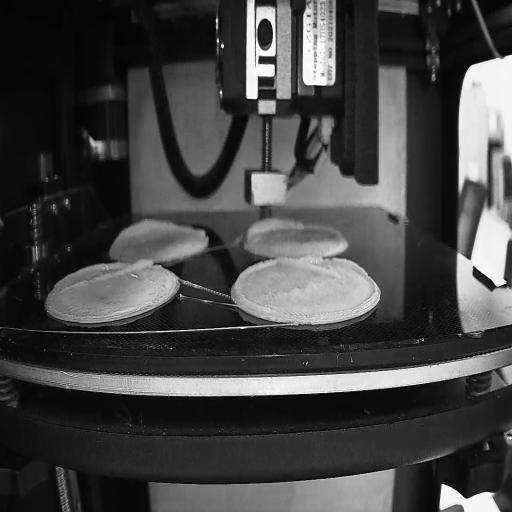over_extrusion: (60, 259, 154, 293), (116, 218, 215, 244), (280, 257, 365, 282), (235, 260, 274, 310), (245, 219, 304, 241)
